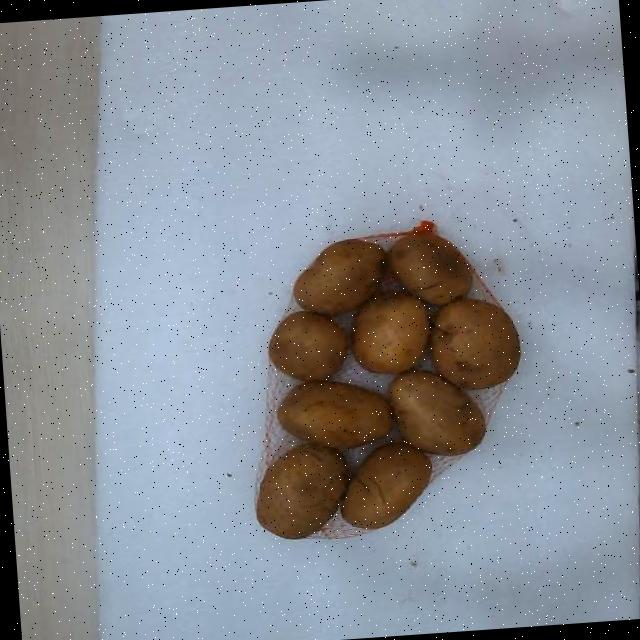potato: (256, 443, 347, 538), (389, 369, 485, 453), (276, 379, 391, 448), (340, 442, 431, 528), (431, 298, 517, 387), (293, 237, 383, 313), (352, 291, 427, 372), (388, 231, 470, 302), (271, 310, 345, 380)
